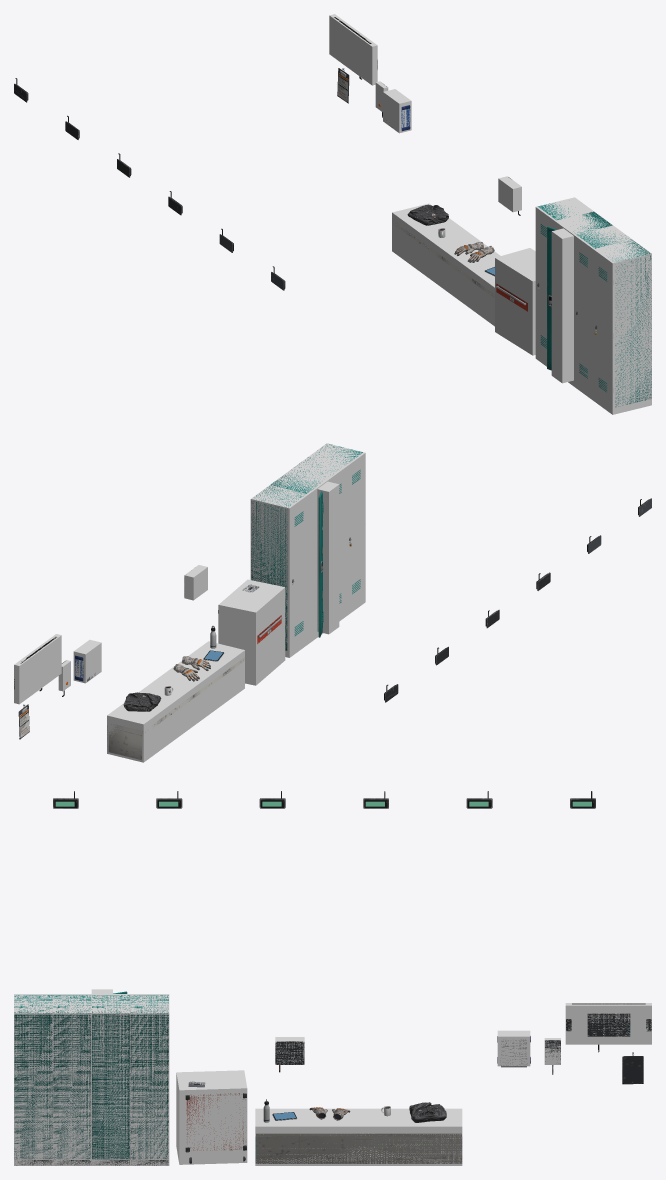
Rendered from props_prepbay.glb.
3 views of the same model, one above another, from view 1: azimuth 30°, elevation 25°; view 2: azimuth 150°, elevation 25°; view 3: azimuth 270°, elevation 25° (orthographic).
Visible parts, largest first — view 1: col_locker_4, col_bench, col_locker_3, col_tool_cart, col_locker_2_door, col_locker_1, locker_4, col_clock_mission, suit_tags, locker_2, col_medkit_blue, col_locker_2 (+2 smaller); view 2: col_locker_1, col_bench, col_tool_cart, col_locker_4, locker_1, col_locker_2_door, col_locker_2, col_clock_mission, col_locker_3, bench, locker_2, suit_tags (+4 smaller); view 3: col_locker_1, col_locker_3, col_locker_2, col_tool_cart, col_locker_4, bench, col_bench, locker_2, locker_4, locker_1, locker_3, col_clock_mission (+7 smaller).
Part boxes in pixels (x1=…): col_locker_4: x1=593, y1=239, x2=651, y2=414; col_bench: x1=392, y1=203, x2=500, y2=326; col_locker_3: x1=574, y1=225, x2=632, y2=400; col_tool_cart: x1=495, y1=248, x2=535, y2=355; col_locker_2_door: x1=551, y1=228, x2=573, y2=383; col_locker_1: x1=535, y1=197, x2=593, y2=366; locker_4: x1=594, y1=240, x2=651, y2=407; col_clock_mission: x1=329, y1=14, x2=377, y2=85; suit_tags: x1=14, y1=78, x2=285, y2=290; locker_2: x1=547, y1=211, x2=612, y2=370; col_medkit_blue: x1=383, y1=89, x2=411, y2=133; col_locker_2: x1=554, y1=211, x2=612, y2=386; col_locker_1: x1=250, y1=485, x2=308, y2=657; col_bench: x1=107, y1=641, x2=244, y2=762; col_tool_cart: x1=218, y1=579, x2=285, y2=685; col_locker_4: x1=308, y1=443, x2=365, y2=615; locker_1: x1=251, y1=485, x2=304, y2=650; col_locker_2_door: x1=317, y1=481, x2=339, y2=634; col_locker_2: x1=270, y1=471, x2=327, y2=643; col_clock_mission: x1=14, y1=634, x2=61, y2=704; col_locker_3: x1=289, y1=457, x2=346, y2=621; bench: x1=107, y1=657, x2=244, y2=760; locker_2: x1=271, y1=473, x2=323, y2=637; suit_tags: x1=384, y1=498, x2=651, y2=702; col_locker_1: x1=130, y1=994, x2=169, y2=1165; col_locker_3: x1=53, y1=994, x2=91, y2=1165; col_locker_2: x1=91, y1=994, x2=130, y2=1165; col_tool_cart: x1=176, y1=1070, x2=247, y2=1164; col_locker_4: x1=14, y1=994, x2=52, y2=1165; bench: x1=255, y1=1133, x2=462, y2=1163; col_bench: x1=255, y1=1108, x2=462, y2=1165; locker_2: x1=92, y1=991, x2=130, y2=1165; locker_4: x1=14, y1=995, x2=52, y2=1165; locker_1: x1=130, y1=995, x2=168, y2=1165; locker_3: x1=53, y1=995, x2=91, y2=1165; col_clock_mission: x1=565, y1=1003, x2=651, y2=1044.
Bounding box in the file's own units: 4.72 × 2.6 × 7.4.
17 materials, 6 textured.
